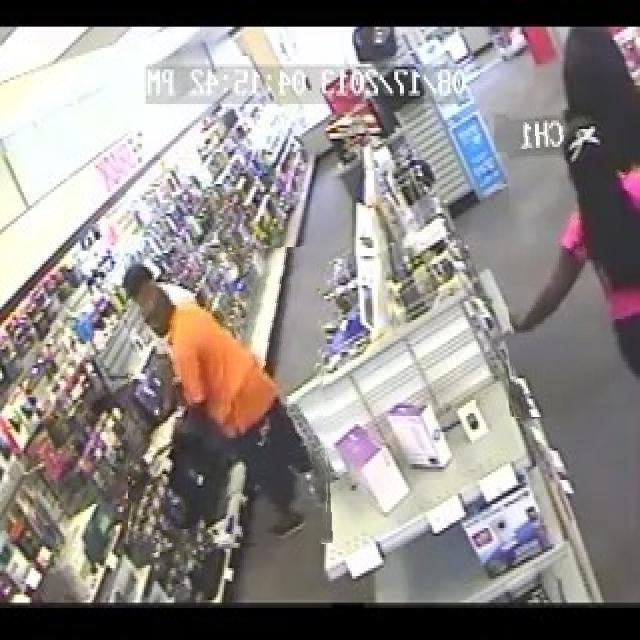normal: (128, 253, 327, 544), (509, 106, 640, 417)
